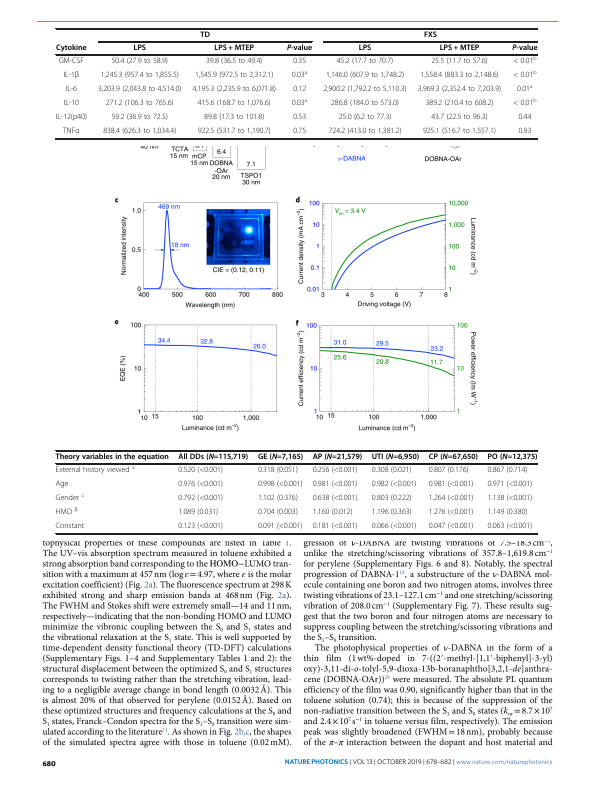borderless: (54, 27, 537, 138), (54, 449, 537, 533)
cell: (55, 453, 170, 462), (54, 464, 136, 476), (191, 85, 277, 95), (322, 85, 408, 95), (97, 85, 182, 95), (417, 85, 502, 95), (100, 71, 180, 81), (194, 71, 274, 81), (325, 71, 405, 81), (419, 71, 499, 81), (197, 99, 272, 109), (102, 127, 177, 137), (197, 127, 272, 137), (327, 127, 402, 137), (422, 127, 497, 137), (105, 99, 175, 109), (330, 99, 400, 109), (424, 99, 494, 109), (177, 453, 249, 462), (203, 113, 265, 123), (110, 57, 169, 67), (430, 57, 489, 67), (110, 113, 169, 123), (430, 113, 489, 123), (205, 57, 263, 67), (336, 57, 394, 67), (338, 113, 392, 123), (177, 466, 224, 476), (177, 480, 224, 490), (486, 480, 533, 490), (177, 494, 224, 504), (486, 494, 533, 504), (177, 522, 224, 532), (486, 522, 533, 532), (486, 453, 538, 462), (312, 466, 358, 476), (257, 480, 303, 490), (312, 480, 358, 490), (371, 480, 417, 490), (428, 480, 474, 490), (312, 494, 358, 504), (428, 494, 474, 504), (428, 508, 474, 518), (257, 522, 303, 532), (312, 522, 358, 532), (371, 522, 417, 532), (428, 522, 474, 532), (312, 453, 363, 462), (428, 453, 479, 462), (371, 453, 420, 462), (257, 453, 304, 462), (257, 466, 299, 476), (371, 466, 413, 476), (428, 466, 470, 476), (486, 466, 528, 476), (257, 494, 299, 504), (371, 494, 413, 504), (177, 508, 219, 518), (257, 508, 299, 518), (371, 508, 413, 518), (486, 508, 528, 518), (213, 44, 255, 54), (312, 508, 353, 518), (439, 44, 480, 54), (55, 492, 85, 504), (55, 113, 88, 123), (55, 44, 87, 54), (55, 522, 85, 532), (55, 506, 79, 518), (512, 56, 537, 67), (512, 70, 537, 81), (512, 98, 537, 109), (286, 44, 313, 54), (511, 44, 538, 54), (58, 57, 85, 67), (291, 70, 308, 81), (516, 84, 533, 95), (291, 98, 308, 109), (62, 71, 80, 81), (62, 127, 80, 137), (63, 99, 80, 109), (132, 44, 147, 54), (292, 57, 307, 67), (292, 85, 307, 95), (292, 113, 307, 123), (517, 113, 532, 123), (292, 127, 307, 137), (517, 127, 532, 137), (55, 480, 69, 490), (358, 44, 372, 54), (64, 85, 78, 95), (423, 31, 438, 40), (199, 31, 211, 40)
